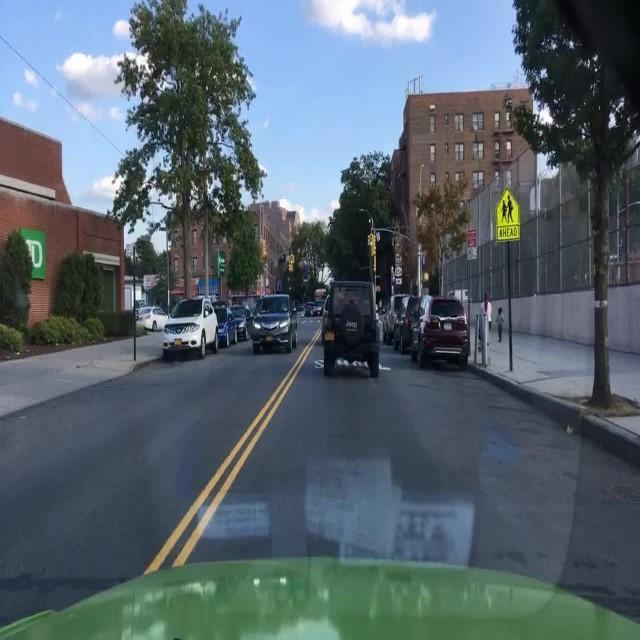normal: (408, 299, 467, 371), (164, 295, 225, 358), (250, 294, 300, 354), (136, 303, 168, 330), (214, 303, 233, 347), (228, 305, 249, 342)
